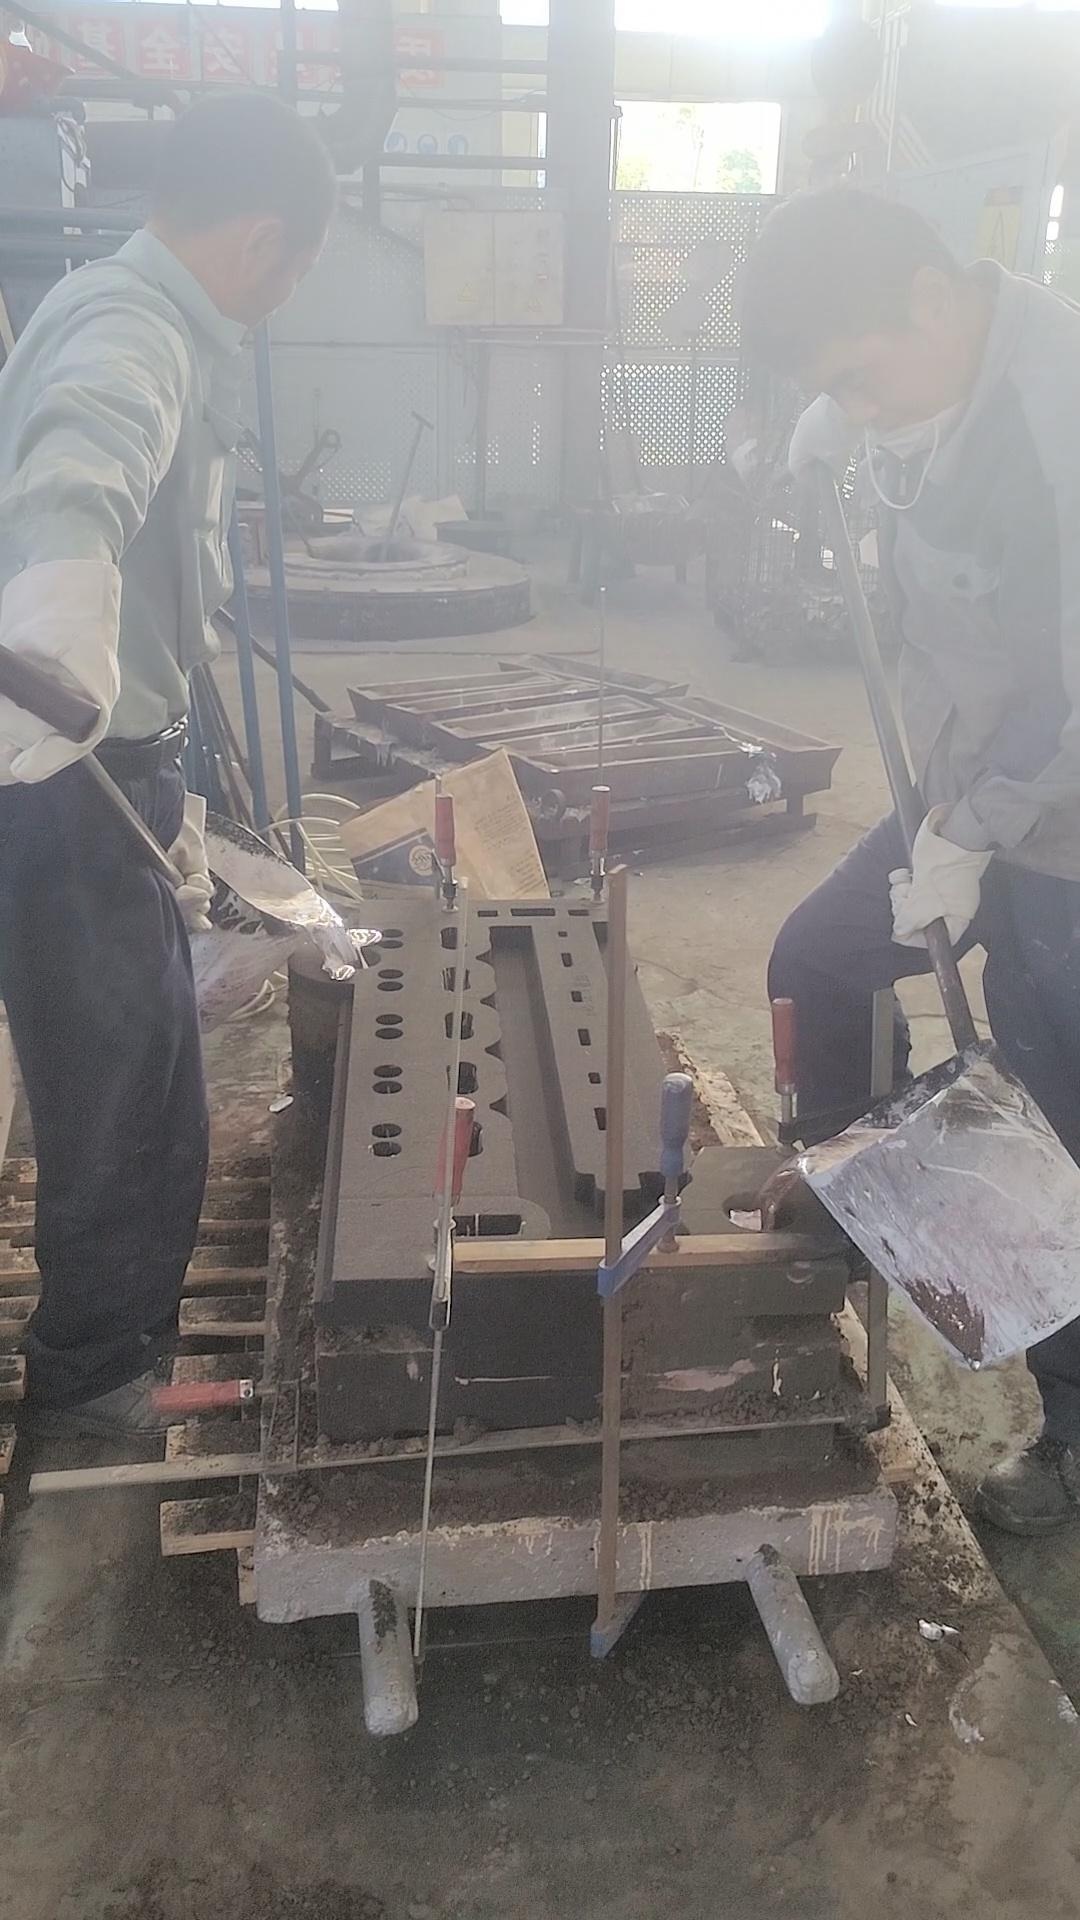pouring hole: (721, 1192, 796, 1230), (316, 945, 381, 971)
